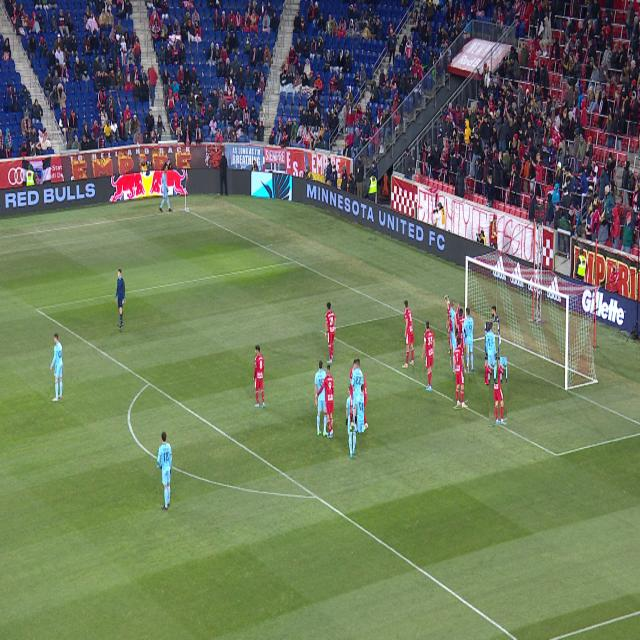football: (185, 206, 189, 213)
goalkeeper: (491, 306, 501, 345)
player: (315, 365, 334, 438), (489, 358, 507, 425), (157, 431, 172, 510), (350, 359, 364, 432), (454, 338, 468, 408), (346, 385, 359, 459), (422, 321, 435, 392), (401, 300, 414, 368), (50, 334, 63, 402), (357, 360, 369, 431), (462, 308, 474, 374), (253, 345, 265, 408), (486, 323, 498, 384), (325, 302, 336, 363), (316, 386, 329, 436), (450, 301, 459, 368), (444, 295, 453, 354), (456, 308, 466, 358), (315, 360, 326, 395), (493, 373, 496, 385), (315, 397, 318, 405), (490, 366, 493, 370)
referee: (116, 269, 125, 330)
